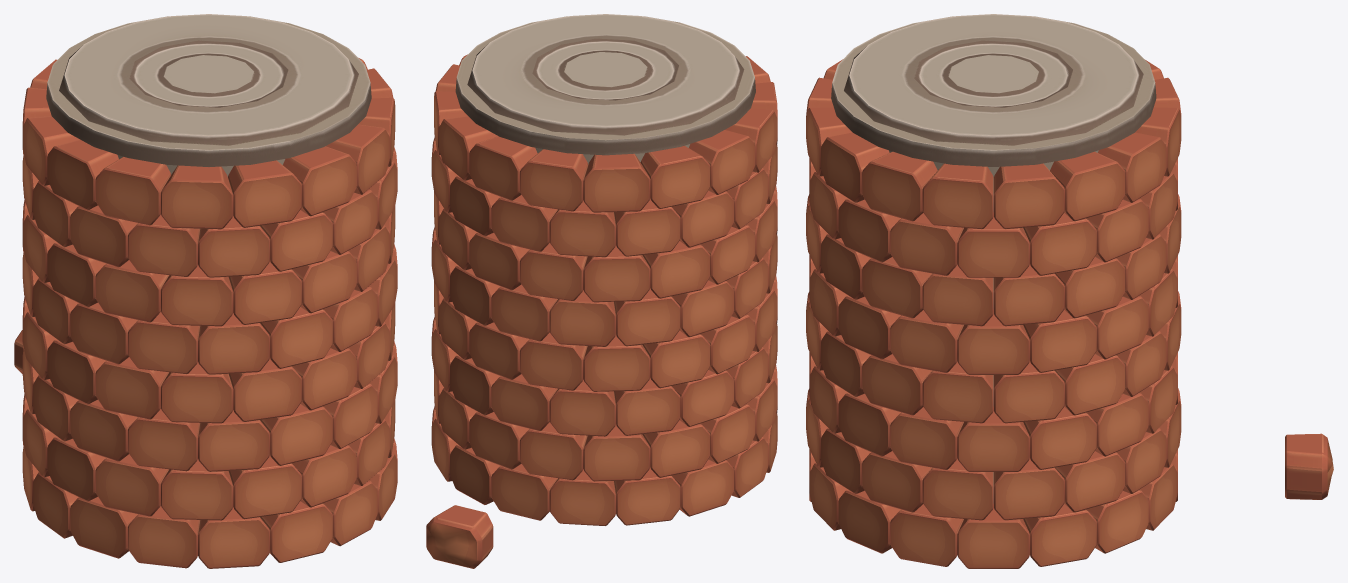
File: pillar.fbx
3 renders of one model, left to right at view 1: azimuth 30°, elevation 25°; view 2: azimuth 150°, elevation 25°; view 3: azimuth 270°, elevation 25°, orthographic. The views are drawn at different scales.
Visible parts, largest first — view 1: brickall, basepillar; view 2: brickall, basepillar, brick; view 3: brickall, basepillar, brick.
Boxes of the visible parts, x1=… form: brickall: x1=22, y1=58, x2=397, y2=568; basepillar: x1=46, y1=14, x2=371, y2=176; brickall: x1=431, y1=54, x2=777, y2=525; basepillar: x1=455, y1=14, x2=755, y2=164; brick: x1=426, y1=505, x2=493, y2=568; brickall: x1=806, y1=59, x2=1181, y2=568; basepillar: x1=831, y1=14, x2=1156, y2=503; brick: x1=1285, y1=433, x2=1333, y2=499.
Size of the model in its own units: 3.6 by 4.42 by 5.07.
